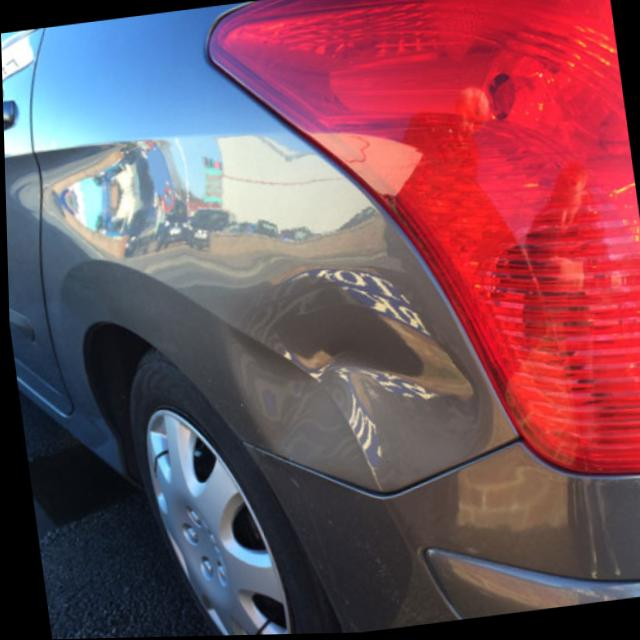Dent: (214, 262, 462, 463)
